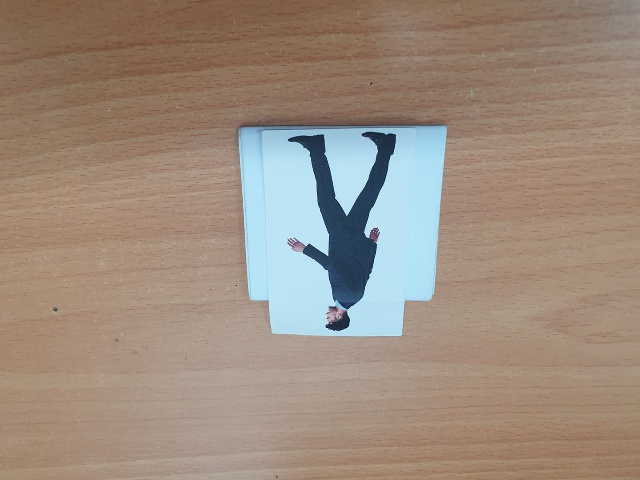Person: (276, 131, 405, 332)
